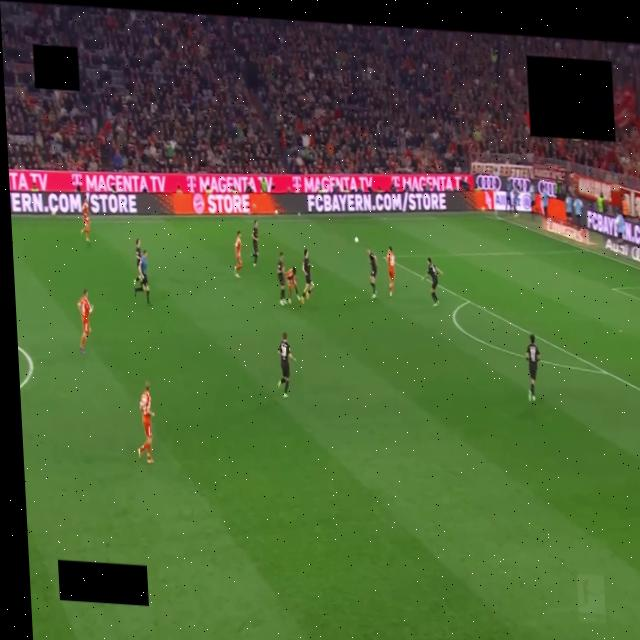ball: (354, 236, 359, 244)
player: (138, 382, 154, 464), (278, 332, 295, 398), (422, 258, 443, 307), (78, 290, 93, 354), (526, 334, 540, 401), (301, 250, 314, 302), (285, 267, 301, 304), (368, 248, 378, 299), (277, 252, 286, 305), (386, 247, 395, 296), (234, 231, 242, 278), (82, 195, 90, 242), (250, 220, 258, 266), (135, 238, 142, 268)
referee: (135, 250, 150, 305)
